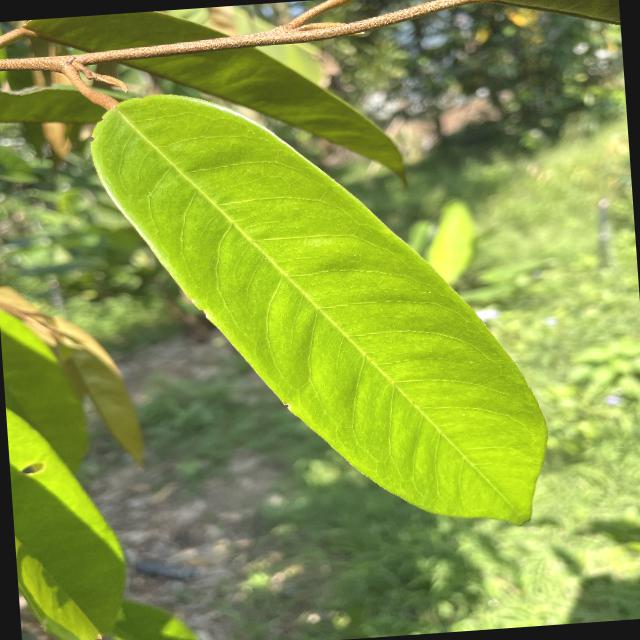No Disease: (80, 58, 562, 563)
